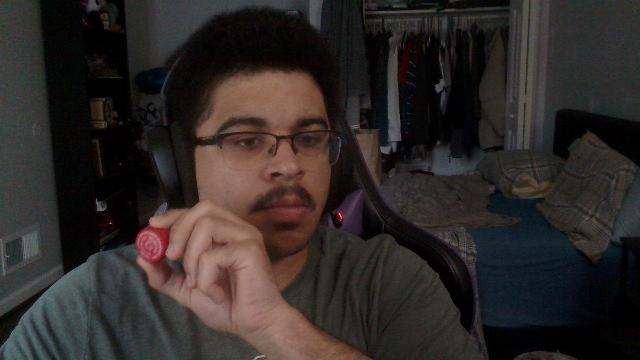cap: (136, 225, 170, 263)
